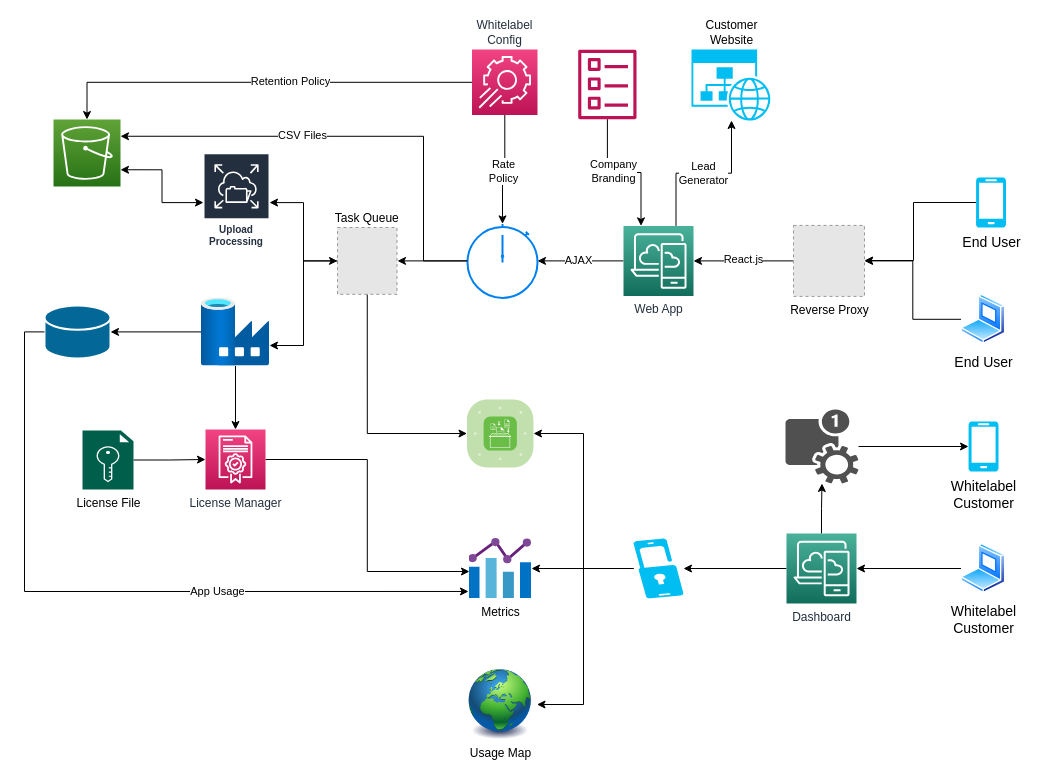
Some shapes in this 1037 by 777 pixel diagram are drawn without their labels. Grey dashed boxes stand in for pictures. Here are the shapes that lost their labels. From the top down, the centre of each, then its label:
At point (607, 84): "Whitelabel Templates".
At point (86, 152): "Object Store".
At point (502, 260): "Rate Limiter".
At point (77, 331): "Database".
At point (235, 331): "Optimiser".
At point (500, 433): "Log Aggreator".
At point (821, 446): "Push Notification".
At point (658, 568): "Auth".
